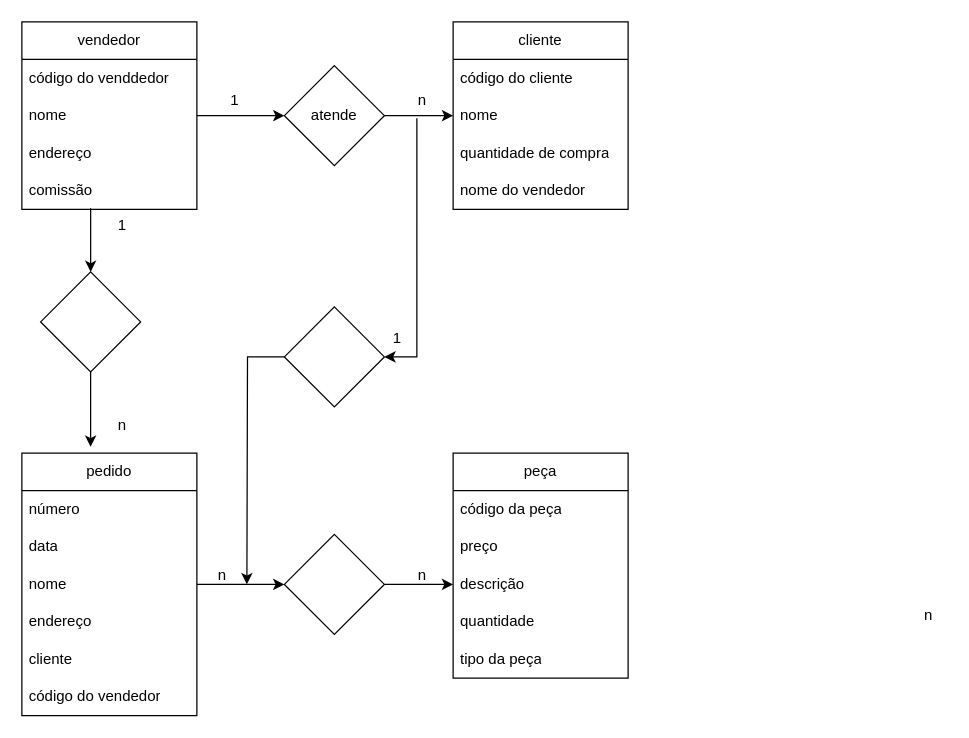
This 969x738 diagram has some shape labels left out. The centre of each missing label's shape, as x and y in pixels:
"gera" belongs at (333,356).
"tem" belongs at (333,583).
"vende" belongs at (90,321).
